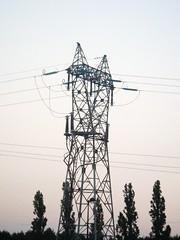power_tower: (55, 35, 122, 237)
